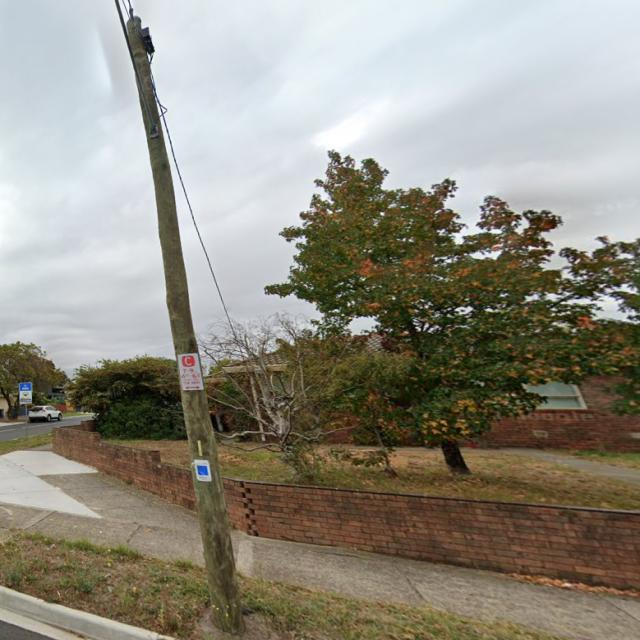timber-pole: (124, 16, 247, 633)
